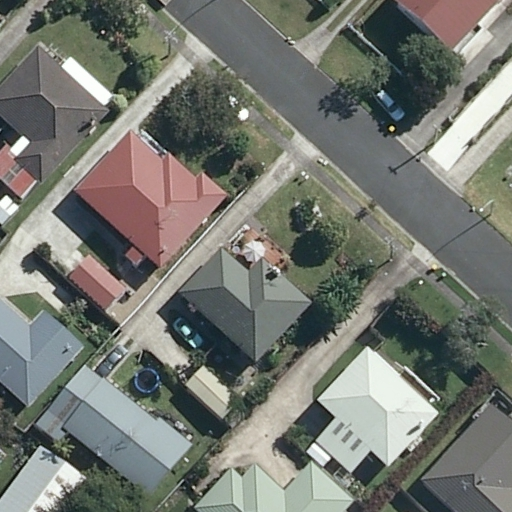DT: (430, 124, 443, 146)
